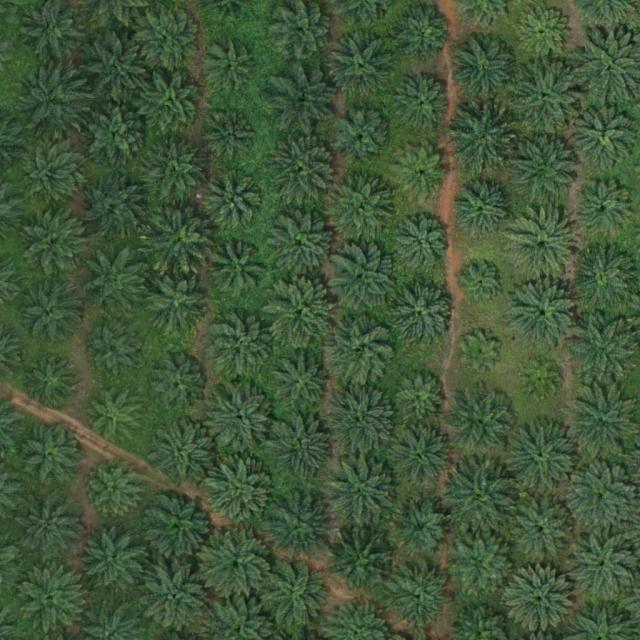Healthy: (269, 137, 340, 208), (451, 35, 522, 106), (446, 105, 517, 176), (324, 315, 395, 386), (329, 526, 400, 597), (15, 421, 86, 492), (141, 564, 212, 635), (257, 559, 328, 630), (82, 35, 152, 106), (266, 212, 337, 282), (512, 63, 582, 134), (511, 133, 581, 204), (507, 212, 578, 282), (569, 245, 639, 316), (565, 385, 636, 455), (509, 281, 579, 352), (507, 422, 577, 493), (389, 280, 459, 351), (327, 386, 397, 457), (327, 458, 398, 528), (266, 352, 337, 422), (267, 415, 337, 486), (264, 489, 334, 560), (208, 310, 278, 381), (207, 383, 277, 454), (205, 459, 275, 530), (147, 417, 217, 488), (142, 492, 212, 563), (80, 249, 150, 320), (19, 209, 89, 280), (202, 530, 272, 601), (507, 566, 577, 637), (16, 69, 86, 139), (80, 172, 150, 242), (145, 142, 215, 212), (269, 62, 339, 132), (327, 29, 397, 99), (326, 173, 396, 243), (450, 173, 520, 243), (568, 462, 638, 532), (507, 497, 577, 567), (447, 389, 517, 459), (446, 465, 516, 535), (386, 425, 456, 495), (327, 244, 397, 314), (265, 277, 335, 347), (143, 207, 213, 277), (17, 492, 87, 562), (16, 564, 86, 634), (565, 532, 635, 602), (140, 70, 203, 133), (202, 170, 265, 233), (390, 498, 453, 561), (21, 144, 83, 207), (86, 106, 148, 169), (142, 9, 204, 72), (331, 104, 393, 167), (392, 2, 454, 65), (206, 238, 268, 301), (145, 275, 208, 337), (19, 284, 81, 347), (84, 528, 146, 591), (392, 564, 455, 626), (453, 533, 515, 596), (392, 74, 454, 136), (146, 356, 208, 418), (83, 383, 145, 445), (204, 109, 259, 165), (395, 219, 450, 274), (516, 6, 571, 61), (393, 369, 448, 424), (84, 326, 139, 381), (88, 463, 143, 518), (20, 355, 75, 410), (206, 39, 260, 94), (395, 146, 449, 201)
Small: (464, 264, 504, 304), (522, 360, 561, 400), (461, 333, 500, 373)
